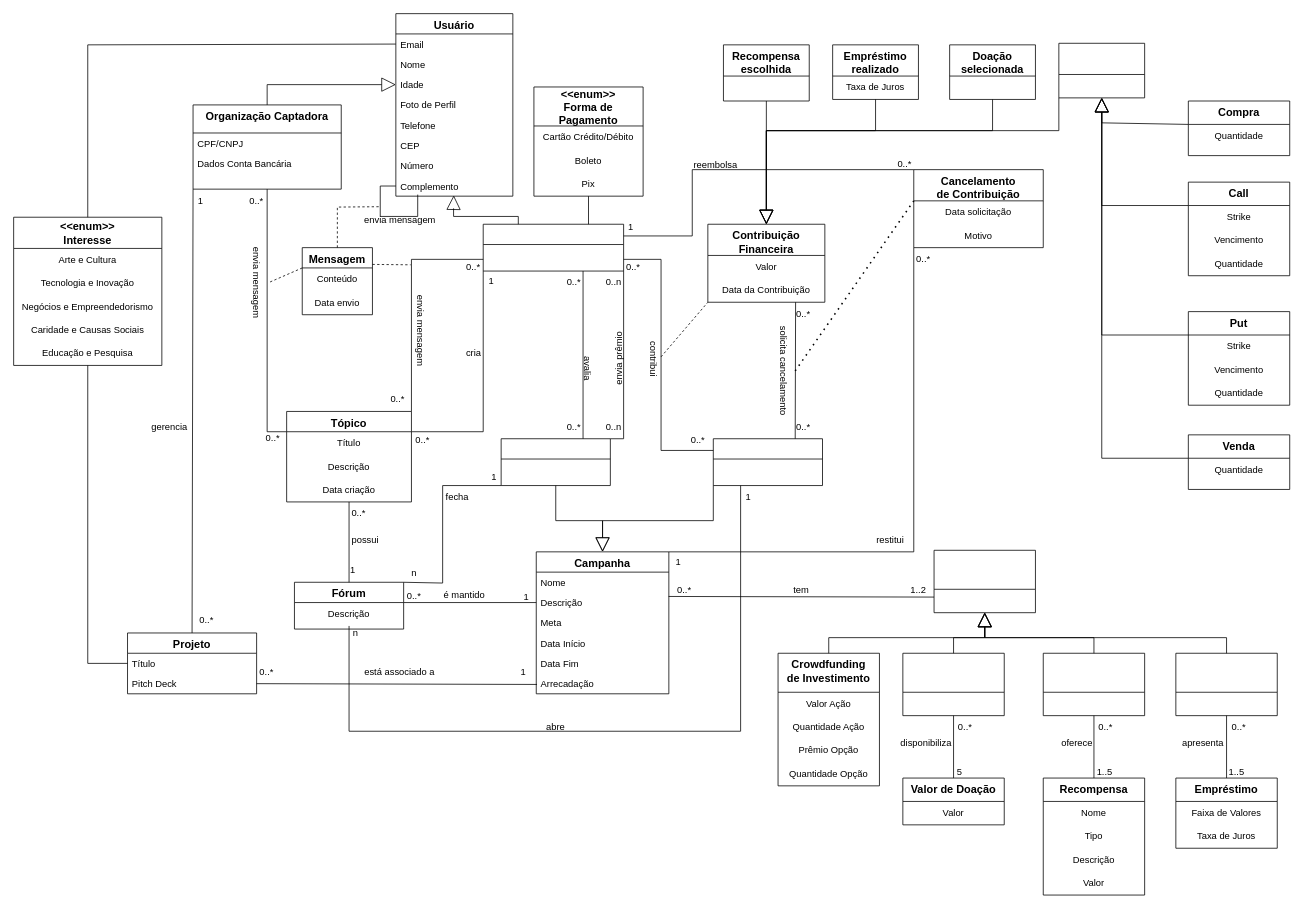
This 1303x909 diagram has some shape labels left out. The centre of each missing label's shape, as x and y in pixels:
Colaborador: pixel 553 247
Concluída: pixel 555 462
Crowdfunding de Doação: pixel 953 684
Crowdfunding de Empréstimo: pixel 1226 684
Crowdfunding de Recompensa: pixel 1093 684
Em Andamento: pixel 768 462
Operação de Investimento: pixel 1101 70
Tipo de Crowdfunding: pixel 984 581
